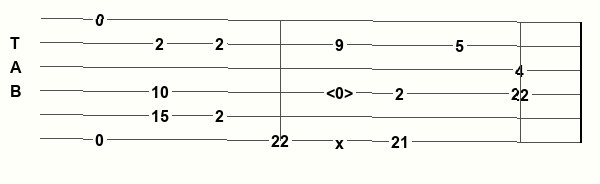0: (95, 12, 108, 28), (95, 132, 108, 148)
10: (151, 84, 173, 100)
15: (151, 108, 173, 124)
2: (155, 36, 168, 52), (215, 36, 228, 52), (215, 108, 228, 124), (395, 84, 408, 100)
21: (391, 132, 413, 148)
22: (271, 132, 293, 148), (511, 84, 533, 100)
4: (515, 60, 528, 76)
5: (455, 36, 468, 52)
9: (335, 36, 348, 52)
harmonic: (326, 84, 357, 100)
x: (335, 134, 348, 147)
